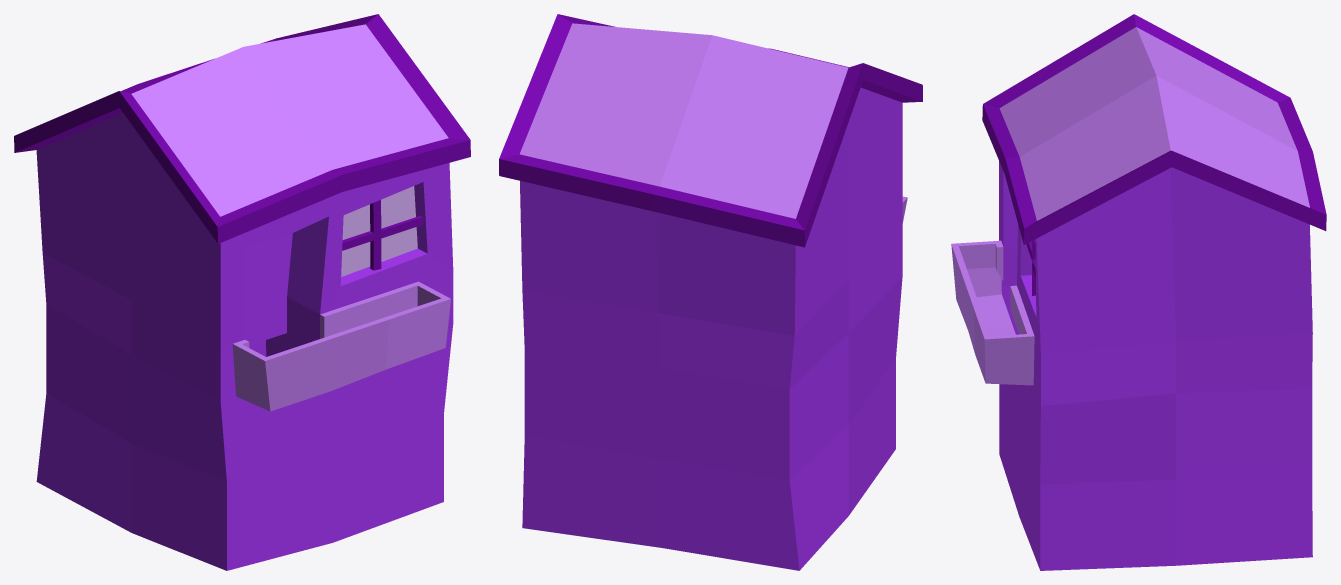
Rendered from Level_7.fbx.
3 renders of one model, left to right at view 1: azimuth 30°, elevation 25°; view 2: azimuth 150°, elevation 25°; view 3: azimuth 270°, elevation 25°, orthographic. The views are drawn at different scales.
Visible parts, largest first — view 1: Cube.008; view 2: Cube.008; view 3: Cube.008.
Part boxes in pixels (<box>): Cube.008: <box>14,14,470,570</box>; Cube.008: <box>499,14,922,570</box>; Cube.008: <box>951,14,1326,570</box>.
Size of the model in its own units: 3747 by 5039 by 3965.
